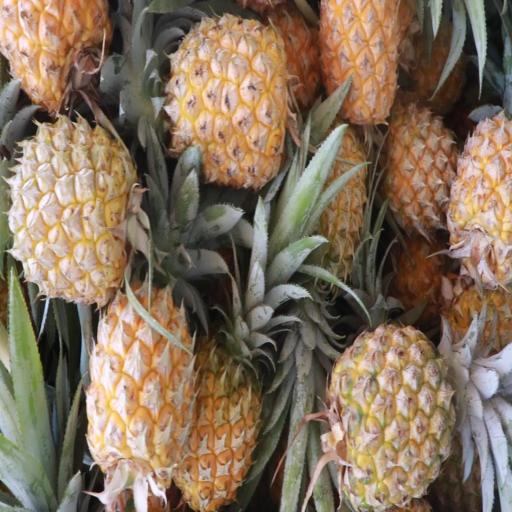------------------------------: (322, 314, 507, 507)
Pineapple - v8 v1: (86, 268, 196, 510), (175, 245, 273, 512), (8, 122, 148, 299), (146, 16, 289, 185), (279, 119, 373, 315), (449, 109, 512, 293), (380, 94, 455, 235), (318, 0, 403, 120)
